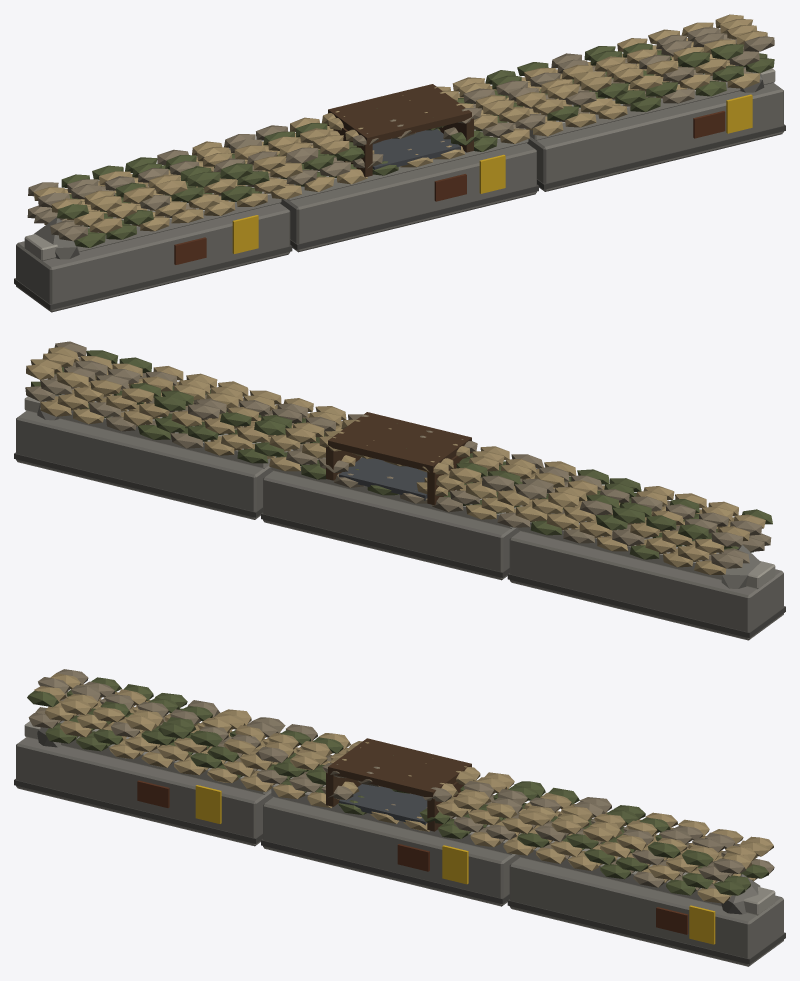
The model's file is lmk_mil_barricade.fbx.
3 renders of one model, top to bottom at view 1: azimuth 30°, elevation 25°; view 2: azimuth 150°, elevation 25°; view 3: azimuth 330°, elevation 25°, orthographic.
Parts seen in each view (by area): view 1: lmk_mil_barricade; view 2: lmk_mil_barricade; view 3: lmk_mil_barricade.
Part boxes in pixels (x1,y1,x2,y2): lmk_mil_barricade: (14,14,785,312); lmk_mil_barricade: (14,341,785,640); lmk_mil_barricade: (14,669,785,966).
Size of the model in its own units: 11.92 by 1.59 by 1.14.
